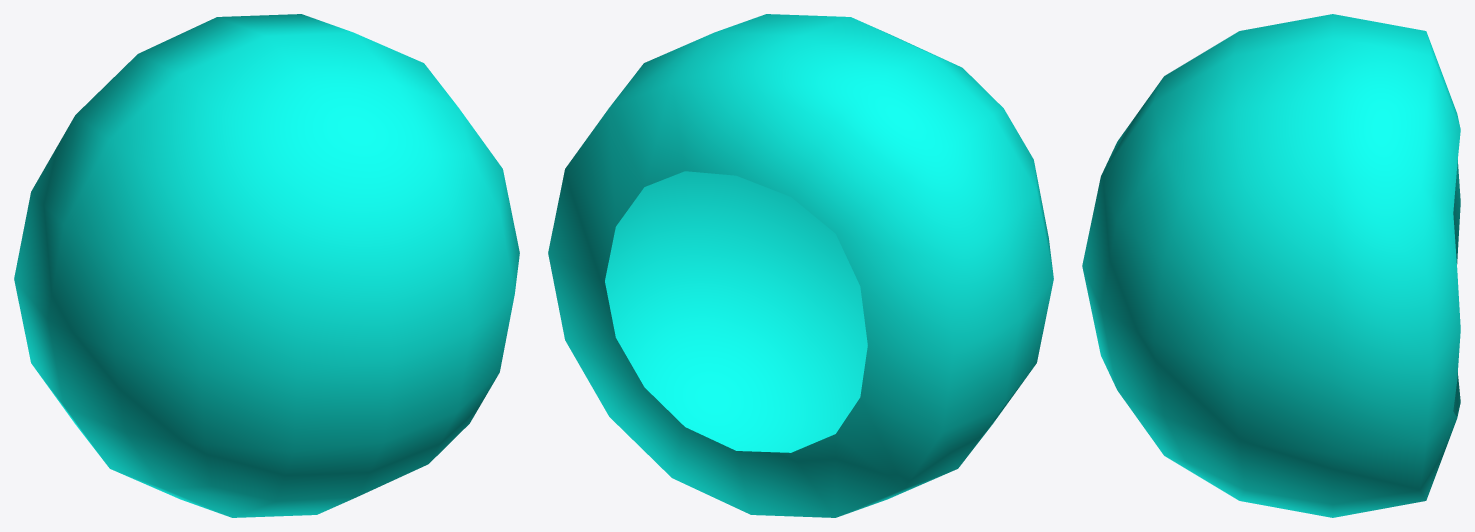
Rendered from SM_FrontBouncing.fbx.
The picture shows the model from 3 angles, left to right: view 1: azimuth 30°, elevation 25°; view 2: azimuth 150°, elevation 25°; view 3: azimuth 270°, elevation 25°; orthographic projection.
Visible parts, largest first — view 1: FrontBouncing; view 2: FrontBouncing; view 3: FrontBouncing.
Part boxes in pixels (<box>): FrontBouncing: <box>14,14,519,517</box>; FrontBouncing: <box>548,14,1053,517</box>; FrontBouncing: <box>1082,14,1460,517</box>.
Bounding box in the file's own units: 1.72 × 1.72 × 1.3.
Materials: 1 (1 with a texture image).
